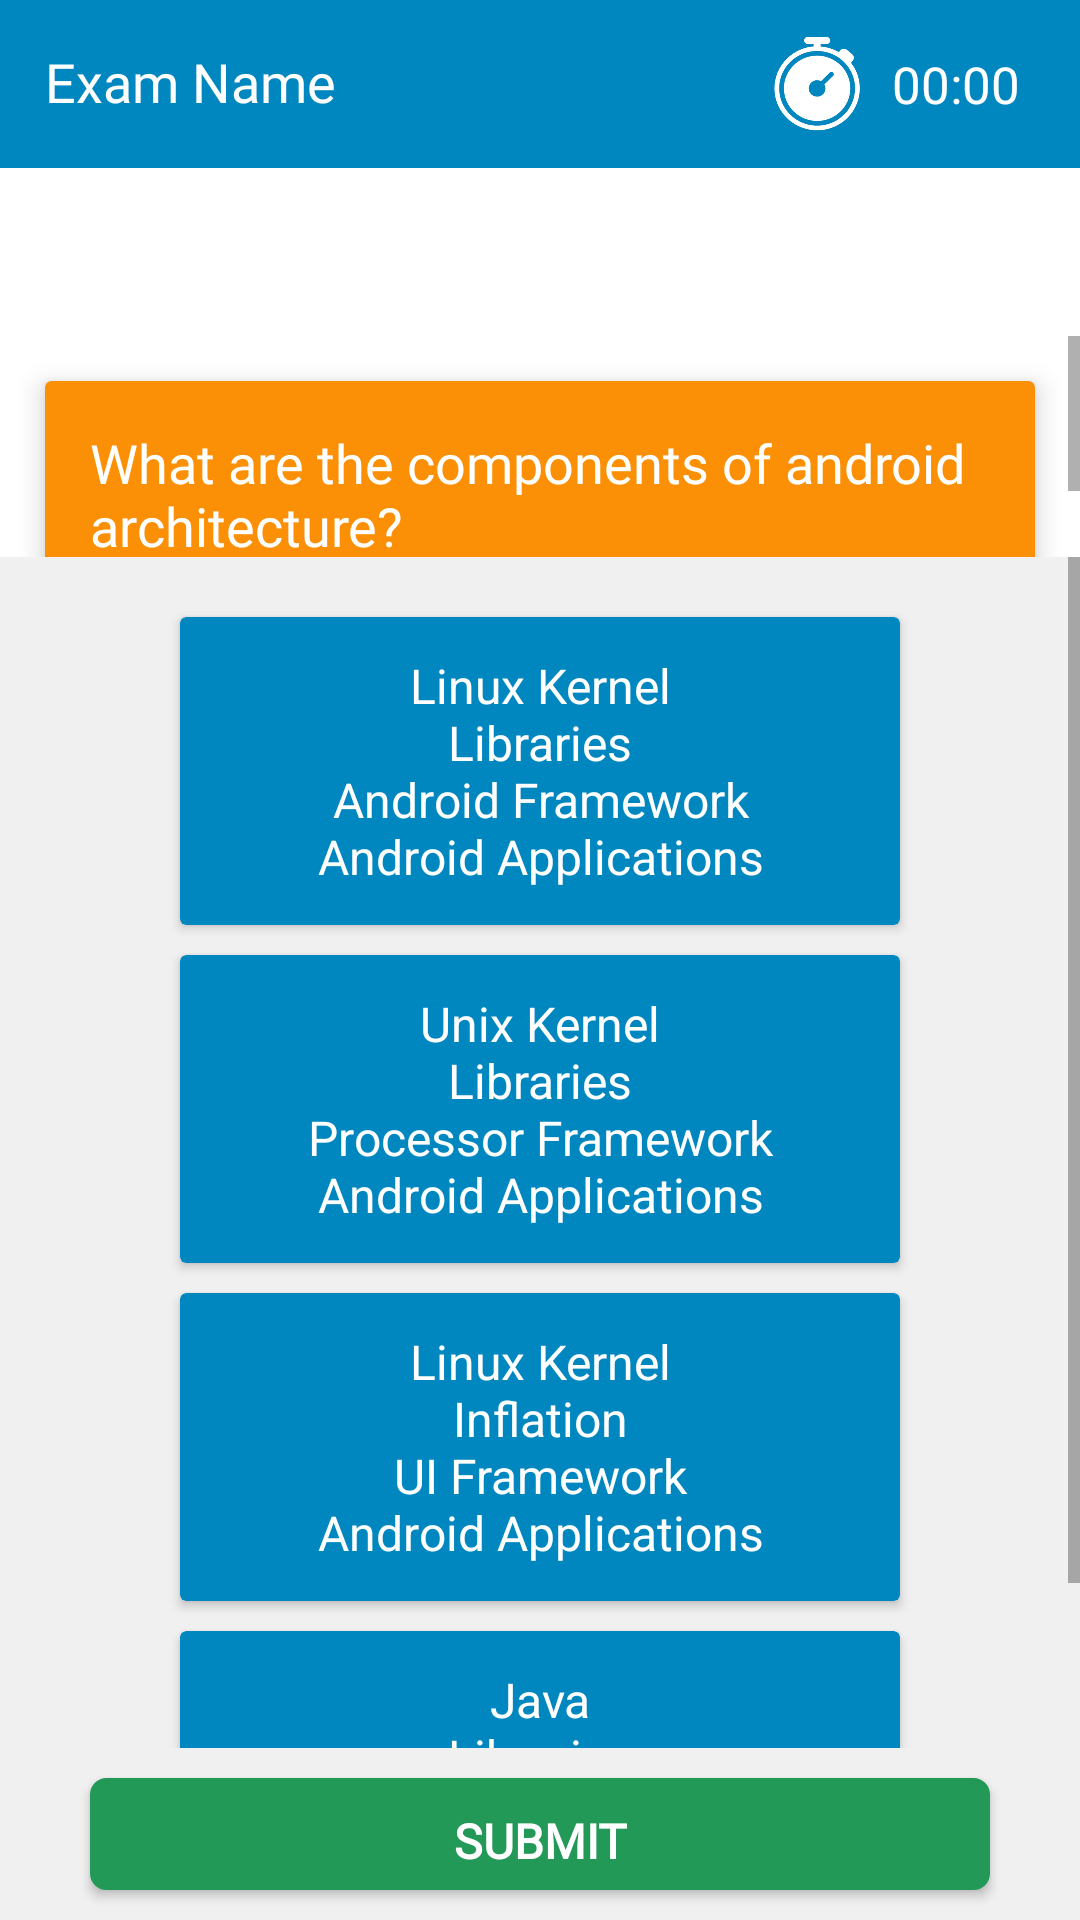

Named icons in this screenshot (1080w x 1920h) and their centers, (x=x, y=y):
timer: (x=817, y=83)
